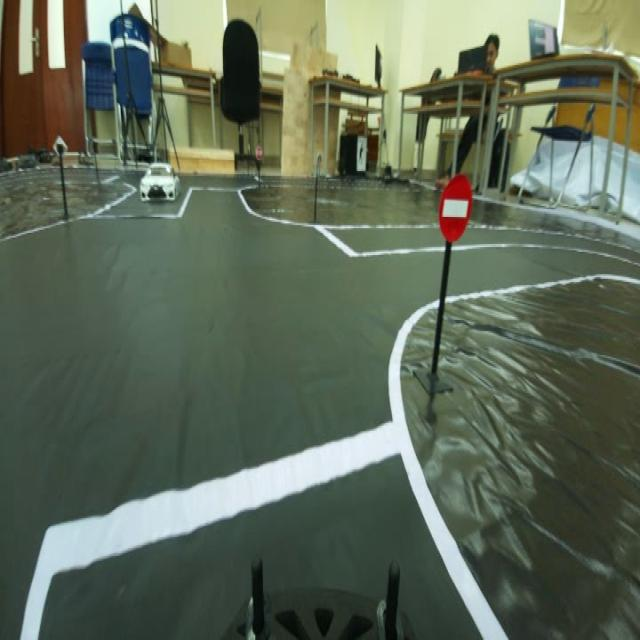car: (137, 153, 183, 205)
no_entry: (432, 169, 476, 248)
